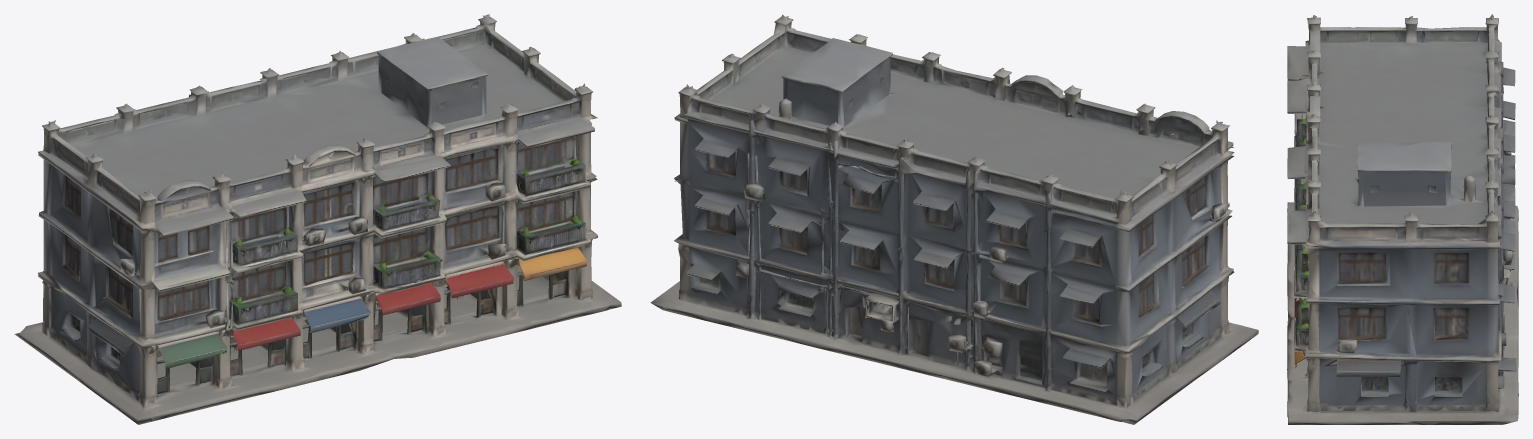
File: urban_facade_58.glb
The picture shows the model from 3 angles, left to right: view 1: azimuth 30°, elevation 25°; view 2: azimuth 150°, elevation 25°; view 3: azimuth 270°, elevation 25°; orthographic projection. The views are drawn at different scales.
Visible parts, largest first — view 1: tripo_node_40e1619d-36e6-44bb-bc48-dacd91e360b3; view 2: tripo_node_40e1619d-36e6-44bb-bc48-dacd91e360b3; view 3: tripo_node_40e1619d-36e6-44bb-bc48-dacd91e360b3.
Part boxes in pixels (box(x1,y1,x2,y2)): tripo_node_40e1619d-36e6-44bb-bc48-dacd91e360b3: box(14, 14, 621, 424); tripo_node_40e1619d-36e6-44bb-bc48-dacd91e360b3: box(650, 14, 1258, 424); tripo_node_40e1619d-36e6-44bb-bc48-dacd91e360b3: box(1287, 14, 1518, 424).
Size of the model in its own units: 0.9847 by 0.4465 by 0.4404.
1 material, 1 textured.
